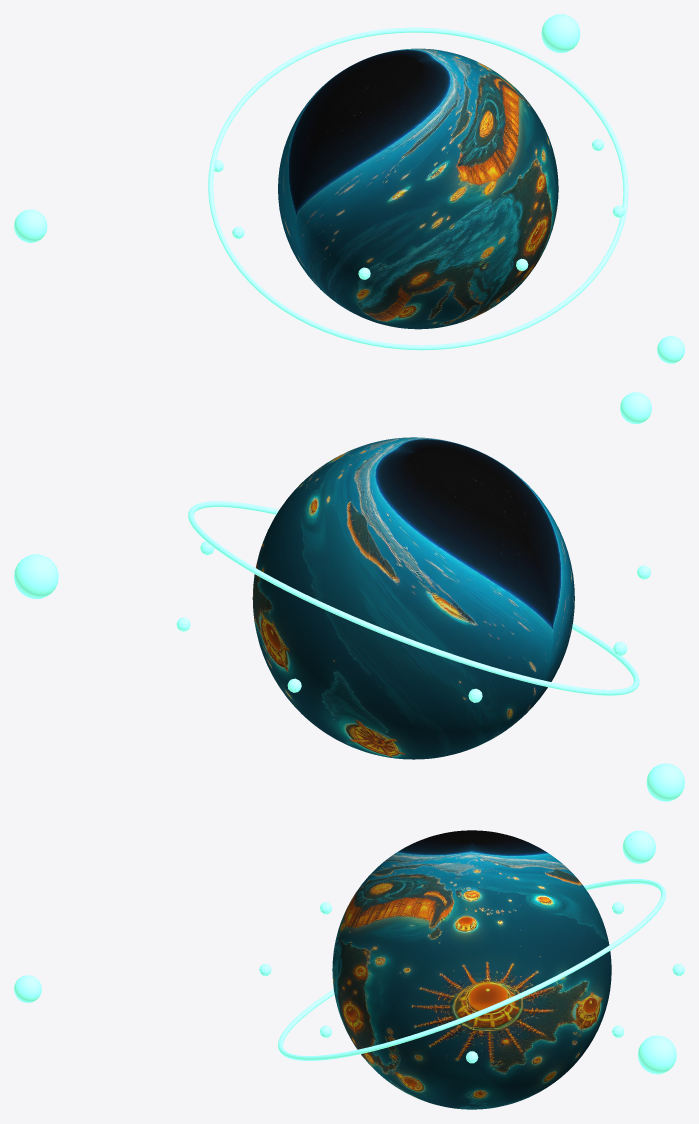
Rendered from vaelor_oceanus.glb.
3 views of the same model, one above another, from view 1: azimuth 30°, elevation 25°; view 2: azimuth 150°, elevation 25°; view 3: azimuth 270°, elevation 25° (orthographic). The views are drawn at different scales.
Parts seen in each view (by area): view 1: Planet_vaelor_oceanus, OrbitalRing_vaelor_oceanus, Moon_0, Moon_1, Moon_2; view 2: Planet_vaelor_oceanus, OrbitalRing_vaelor_oceanus, Moon_0, Moon_1, Moon_2; view 3: Planet_vaelor_oceanus, OrbitalRing_vaelor_oceanus, Moon_0, Moon_1, Moon_2.
Boxes of the visible parts, bbox=[...] form: Planet_vaelor_oceanus: bbox=[278, 48, 558, 329]; OrbitalRing_vaelor_oceanus: bbox=[208, 27, 628, 350]; Moon_0: bbox=[541, 14, 580, 52]; Moon_1: bbox=[14, 209, 47, 242]; Moon_2: bbox=[657, 336, 684, 363]; Planet_vaelor_oceanus: bbox=[252, 437, 574, 759]; OrbitalRing_vaelor_oceanus: bbox=[188, 501, 639, 695]; Moon_0: bbox=[14, 554, 58, 598]; Moon_1: bbox=[646, 763, 684, 801]; Moon_2: bbox=[620, 392, 651, 423]; Planet_vaelor_oceanus: bbox=[332, 830, 611, 1109]; OrbitalRing_vaelor_oceanus: bbox=[278, 879, 665, 1060]; Moon_0: bbox=[638, 1035, 676, 1074]; Moon_1: bbox=[622, 830, 655, 863]; Moon_2: bbox=[14, 975, 41, 1002].
Size of the model in its own units: 4.7 by 2 by 4.81.
Materials: 2 (1 with a texture image).
